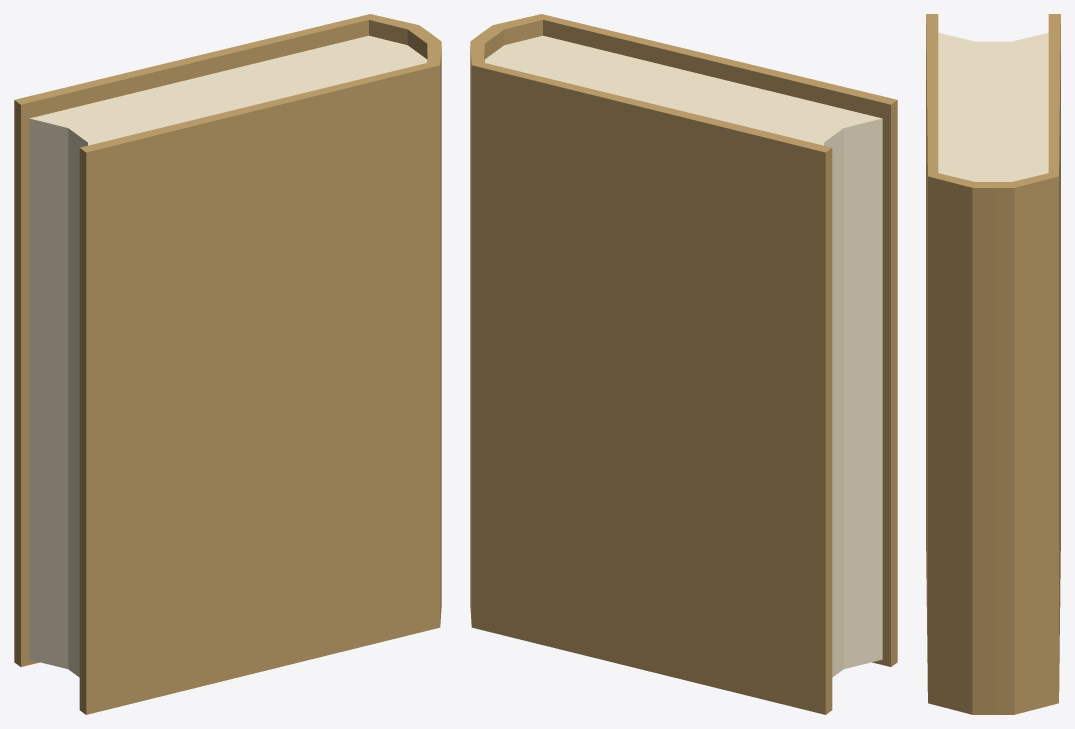
The model's file is Book_07.fbx.
3 renders of one model, left to right at view 1: azimuth 30°, elevation 25°; view 2: azimuth 150°, elevation 25°; view 3: azimuth 270°, elevation 25°, orthographic. The views are drawn at different scales.
Visible parts, largest first — view 1: Plane.301; view 2: Plane.301; view 3: Plane.301.
Part boxes in pixels (box(x1,y1,x2,y2)): Plane.301: box(14, 14, 441, 714); Plane.301: box(470, 14, 897, 714); Plane.301: box(926, 14, 1060, 714).
Bounding box in the file's own units: 0.3985 × 0.1305 × 0.5627.
